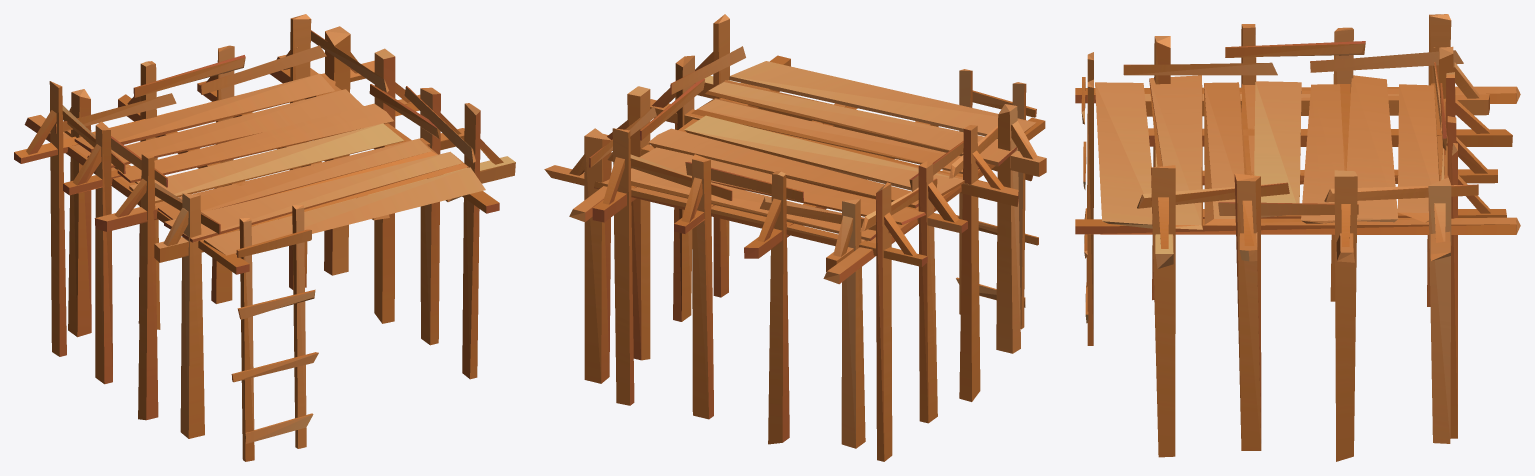
The model's file is GL-Manmade-03-LOD3.fbx.
3 views of the same model, side by side, from view 1: azimuth 30°, elevation 25°; view 2: azimuth 150°, elevation 25°; view 3: azimuth 270°, elevation 25° (orthographic). The views are drawn at different scales.
Parts seen in each view (by area): view 1: GL_Manmade_03; view 2: GL_Manmade_03; view 3: GL_Manmade_03.
Part boxes in pixels (x1,y1,x2,y2): GL_Manmade_03: [14, 14, 515, 461]; GL_Manmade_03: [544, 14, 1046, 461]; GL_Manmade_03: [1075, 14, 1520, 461].
Bounding box in the file's own units: 4.43 × 3.06 × 4.2.
